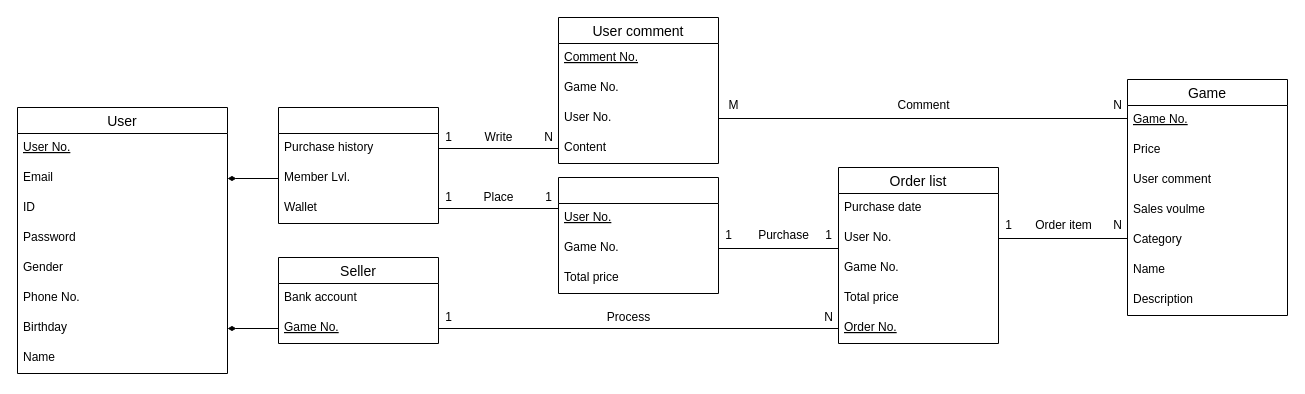
Image size: 1305x394. Some labels were removed from this diagram. The shapes that lost their labels are listed below. From the top down, each one's box as (x1, y1, x2, y2) in pixels, then its label:
(278, 106, 438, 224): Buyer
(558, 176, 718, 294): Shopping cart
